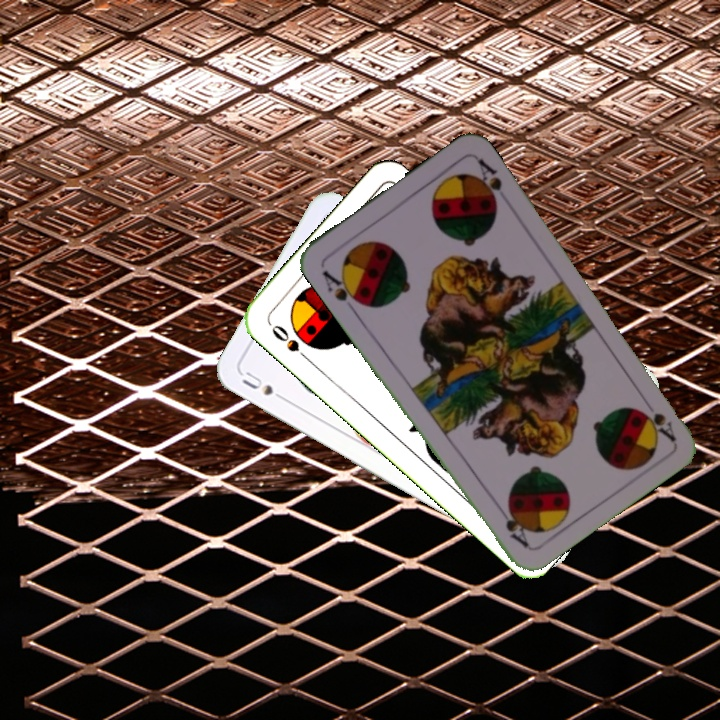SA: (318, 266, 366, 315), (637, 405, 678, 444)
SO: (267, 320, 312, 364)
SU: (238, 367, 292, 405)
